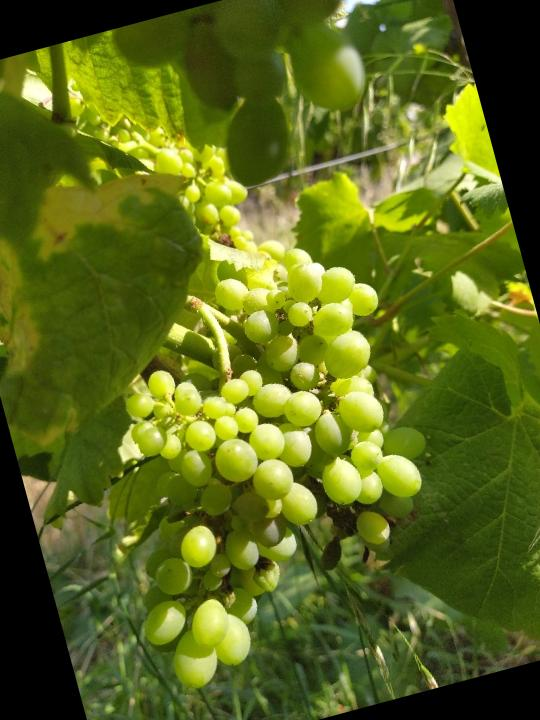grape: (51, 208, 478, 705)
